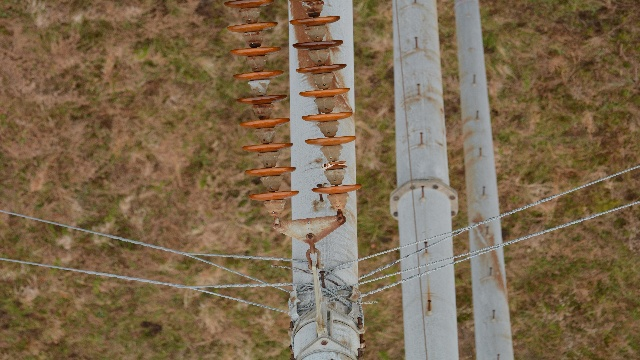broken_local: (319, 158, 350, 171)
insulator_unspecified: (227, 0, 361, 201)
